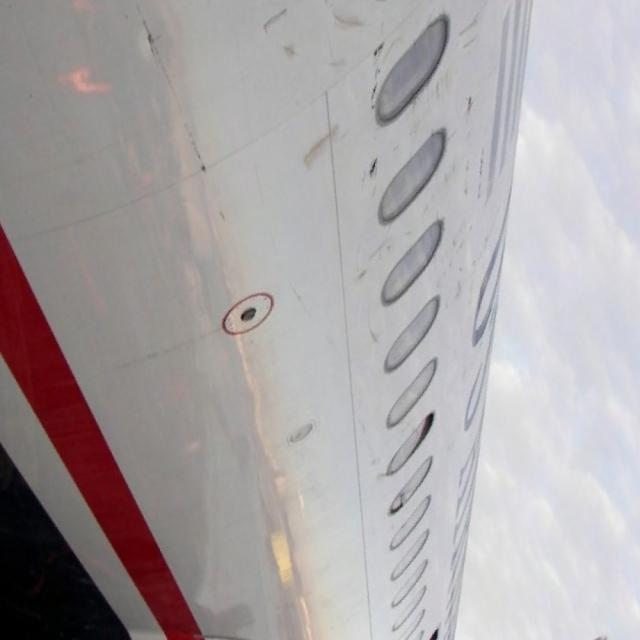crack: (259, 5, 292, 35)
